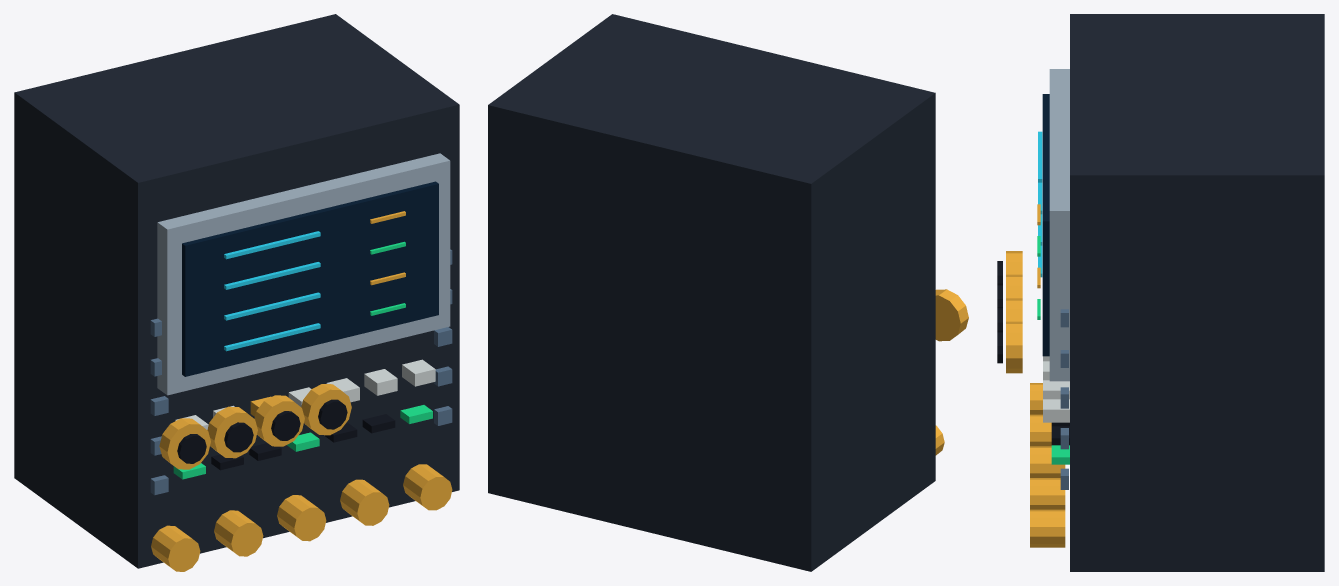
The model's file is 58_L86_RadiatorLeakTestController.fbx.
3 renders of one model, left to right at view 1: azimuth 30°, elevation 25°; view 2: azimuth 150°, elevation 25°; view 3: azimuth 270°, elevation 25°, orthographic. The views are drawn at different scales.
Parts seen in each view (by area): view 1: L86_RadiatorLeakTestController, L86_RadiatorLeakTestController_Part_0010, L86_RadiatorLeakTestController_Part_0014, L86_RadiatorLeakTestController_Part_0016, L86_RadiatorLeakTestController_Part_0012, L86_RadiatorLeakTestController_Part_0017, L86_RadiatorLeakTestController_Part_0013, L86_RadiatorLeakTestController_Part_0015, L86_RadiatorLeakTestController_Part_0011; view 2: L86_RadiatorLeakTestController, L86_RadiatorLeakTestController_Part_0010; view 3: L86_RadiatorLeakTestController, L86_RadiatorLeakTestController_Part_0016, L86_RadiatorLeakTestController_Part_0012.
Boxes of the visible parts, <box> form: L86_RadiatorLeakTestController: <box>14,14,459,571</box>; L86_RadiatorLeakTestController_Part_0010: <box>159,418,210,469</box>; L86_RadiatorLeakTestController_Part_0014: <box>254,395,304,446</box>; L86_RadiatorLeakTestController_Part_0016: <box>301,384,351,435</box>; L86_RadiatorLeakTestController_Part_0012: <box>207,406,257,458</box>; L86_RadiatorLeakTestController_Part_0017: <box>318,399,347,429</box>; L86_RadiatorLeakTestController_Part_0013: <box>224,422,253,452</box>; L86_RadiatorLeakTestController_Part_0015: <box>271,411,300,440</box>; L86_RadiatorLeakTestController_Part_0011: <box>177,434,206,463</box>; L86_RadiatorLeakTestController: <box>488,14,944,571</box>; L86_RadiatorLeakTestController_Part_0010: <box>935,289,968,341</box>; L86_RadiatorLeakTestController: <box>1030,14,1324,571</box>; L86_RadiatorLeakTestController_Part_0016: <box>1006,321,1022,373</box>; L86_RadiatorLeakTestController_Part_0012: <box>1006,274,1022,298</box>.
Size of the model in its own units: 96.44 by 110 by 82.16.
